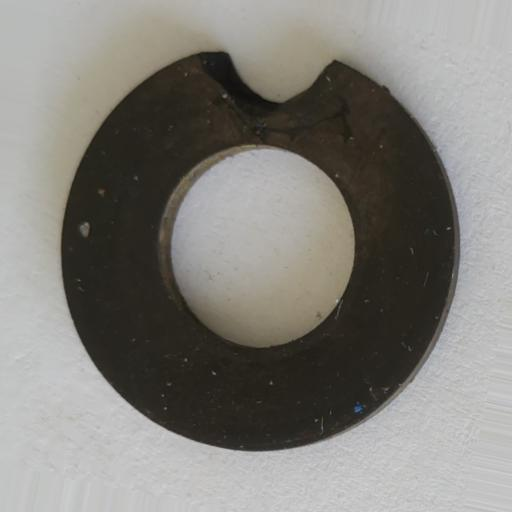defect: (201, 50, 338, 122)
